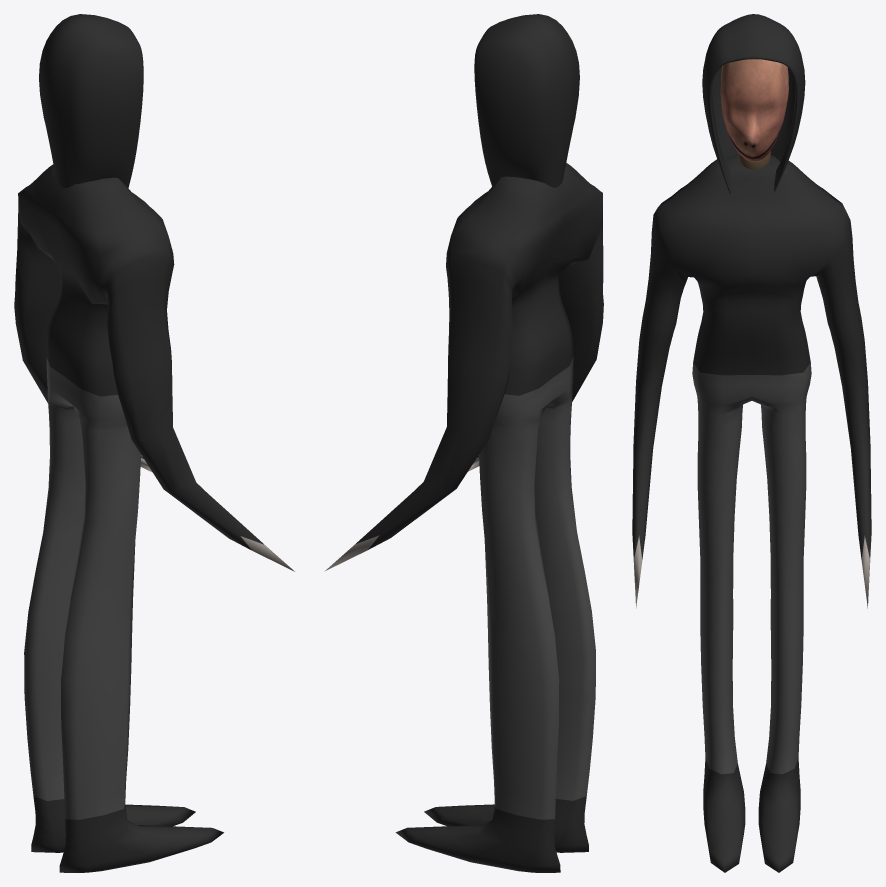
The model's file is HorrorCC.fbx.
The picture shows the model from 3 angles, left to right: view 1: azimuth 30°, elevation 25°; view 2: azimuth 150°, elevation 25°; view 3: azimuth 270°, elevation 25°; orthographic projection. The views are drawn at different scales.
Visible parts, largest first — view 1: pCube6, pCube7; view 2: pCube6, pCube7; view 3: pCube6, pCube7, pCube1.
Part boxes in pixels (x1,y1,x2,y2): pCube6: (14, 164, 294, 872); pCube7: (39, 14, 143, 187); pCube6: (324, 163, 603, 872); pCube7: (474, 14, 579, 187); pCube6: (632, 154, 871, 872); pCube7: (702, 14, 805, 193); pCube1: (720, 59, 788, 162).
Size of the model in its own units: 1.9 by 7.9 by 2.13.
Materials: 5 (1 with a texture image).
